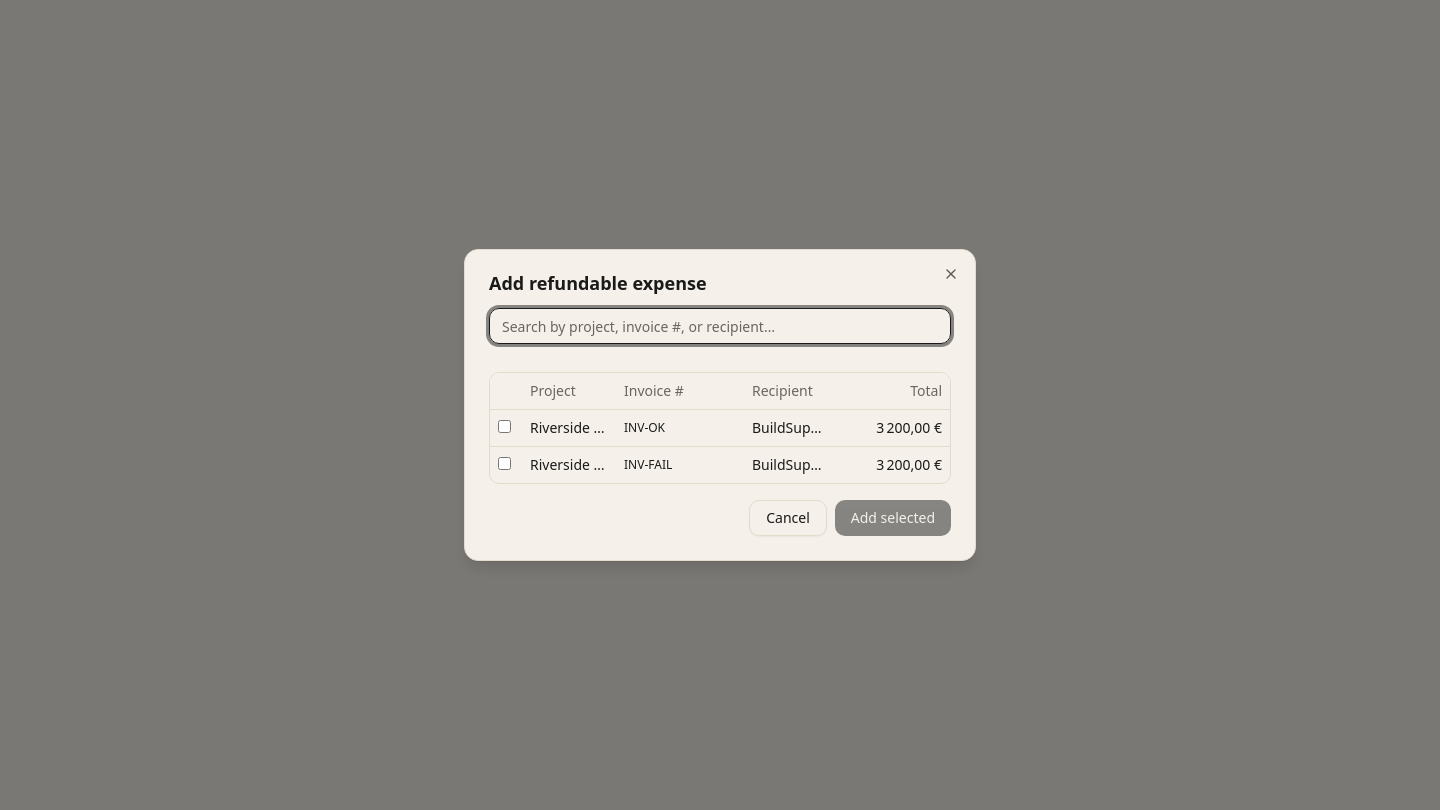
Test case: AddRefundableExpenseDialog › partial failure: keeps the dialog open with the failed expense still selected and named
Expected: the text "INV-OK" is shown, [616,410,744,446]
Click the checkbox named "INV-OK" at (504, 426), box [498,420,511,433]
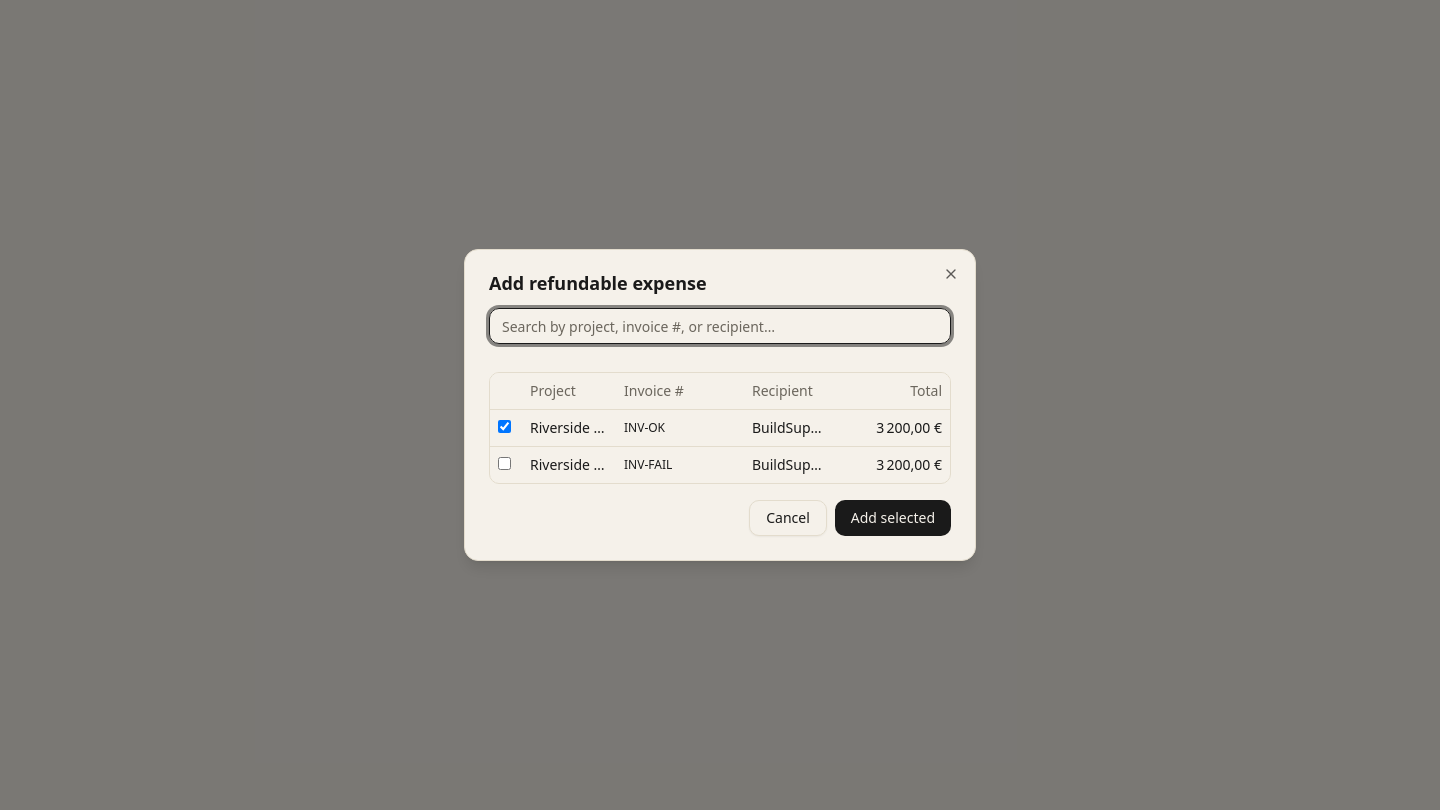
Click the checkbox named "INV-FAIL" at (504, 464), box [498,457,511,470]
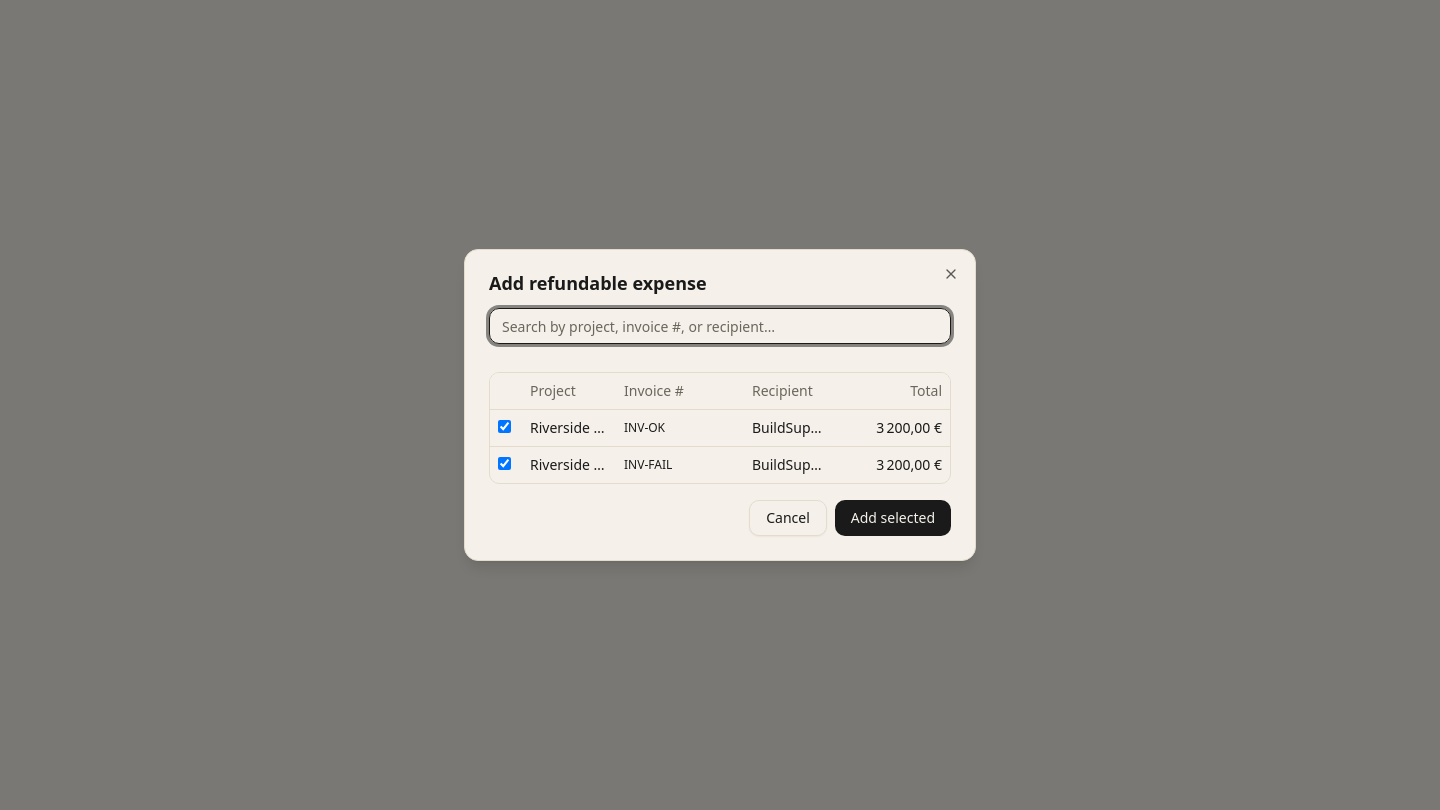
Click the button "Add selected" at (893, 518), box [835,500,951,536]
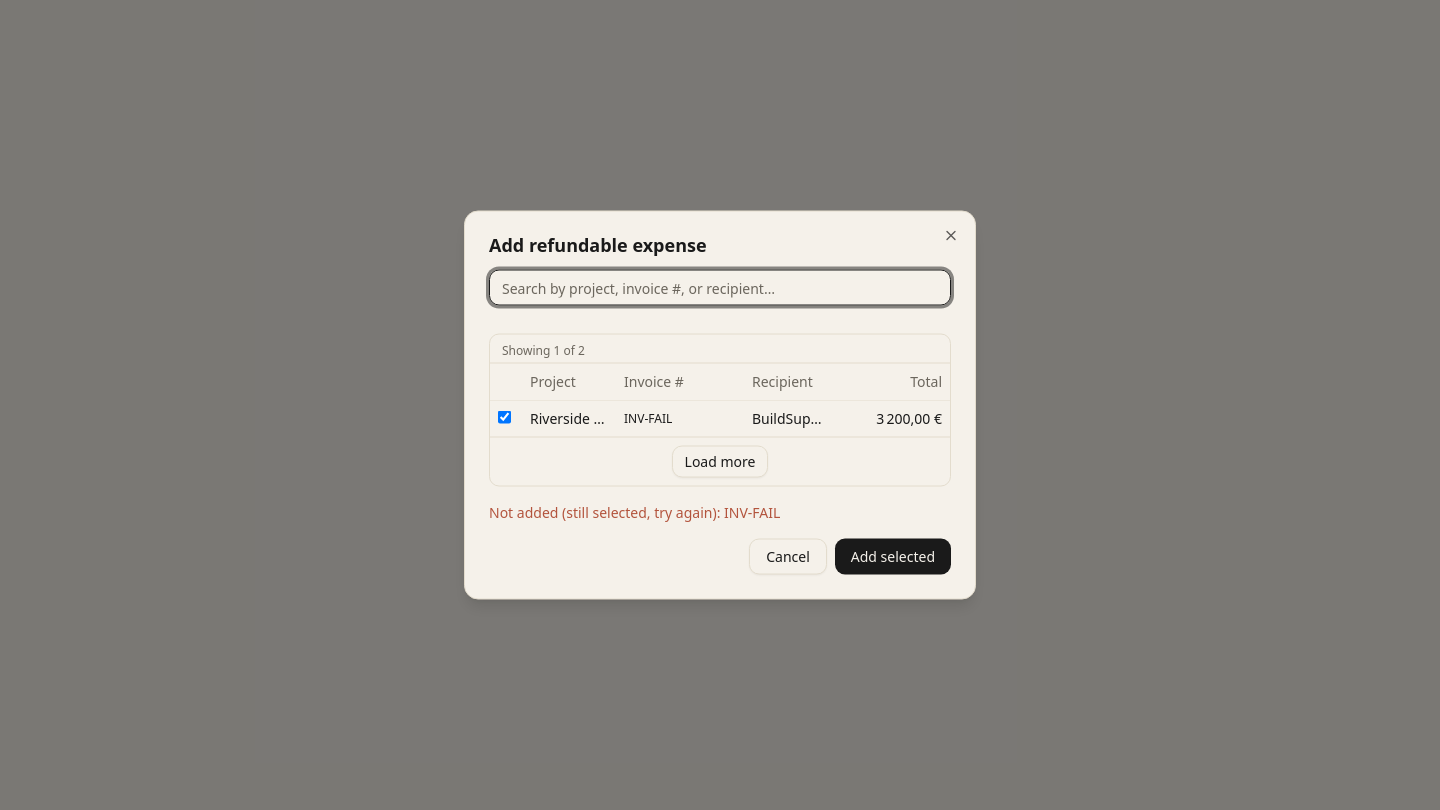
Now the checkbox named "INV-FAIL" is checked, box [498,410,511,424]
Now the message shows "INV-FAIL", box [489,502,780,522]
Now the text "INV-OK" is gone
